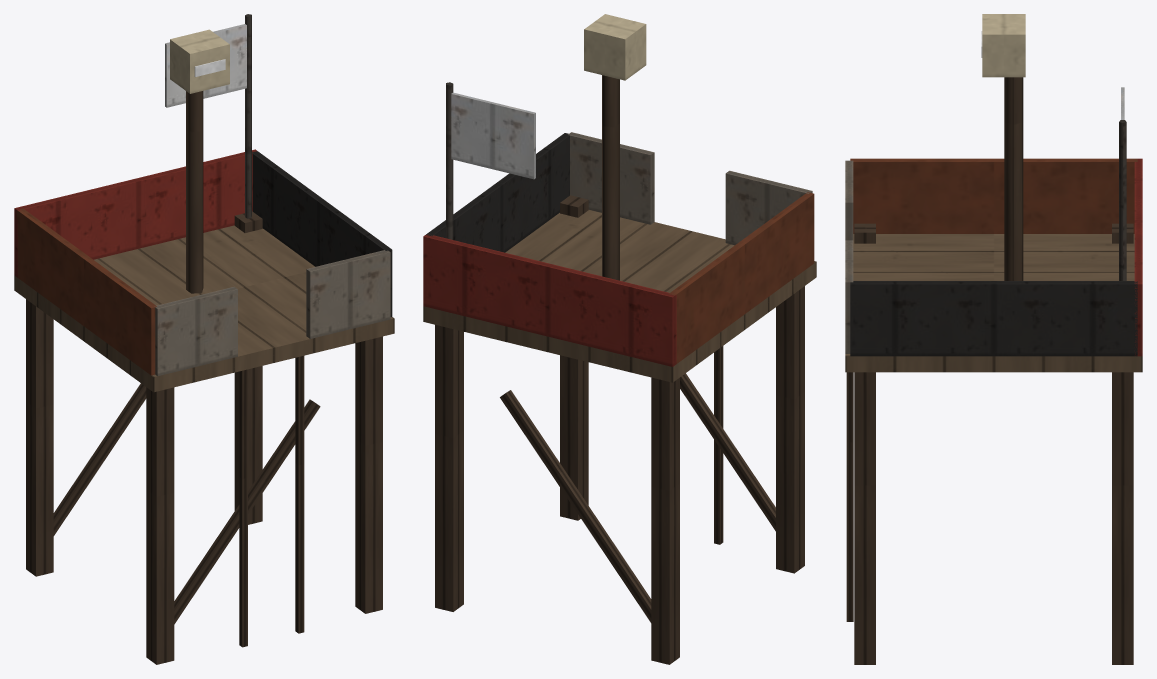
3 renders of one model, left to right at view 1: azimuth 30°, elevation 25°; view 2: azimuth 150°, elevation 25°; view 3: azimuth 270°, elevation 25°, orthographic. The views are drawn at different scales.
Visible parts, largest first — view 1: raider_building_claim_post; view 2: raider_building_claim_post; view 3: raider_building_claim_post.
Boxes of the visible parts, bbox=[...] form: raider_building_claim_post: bbox=[14, 14, 394, 664]; raider_building_claim_post: bbox=[423, 14, 816, 664]; raider_building_claim_post: bbox=[845, 14, 1142, 664].
Bounding box in the file's own units: 3 × 6.47 × 3.
10 materials, 10 textured.
